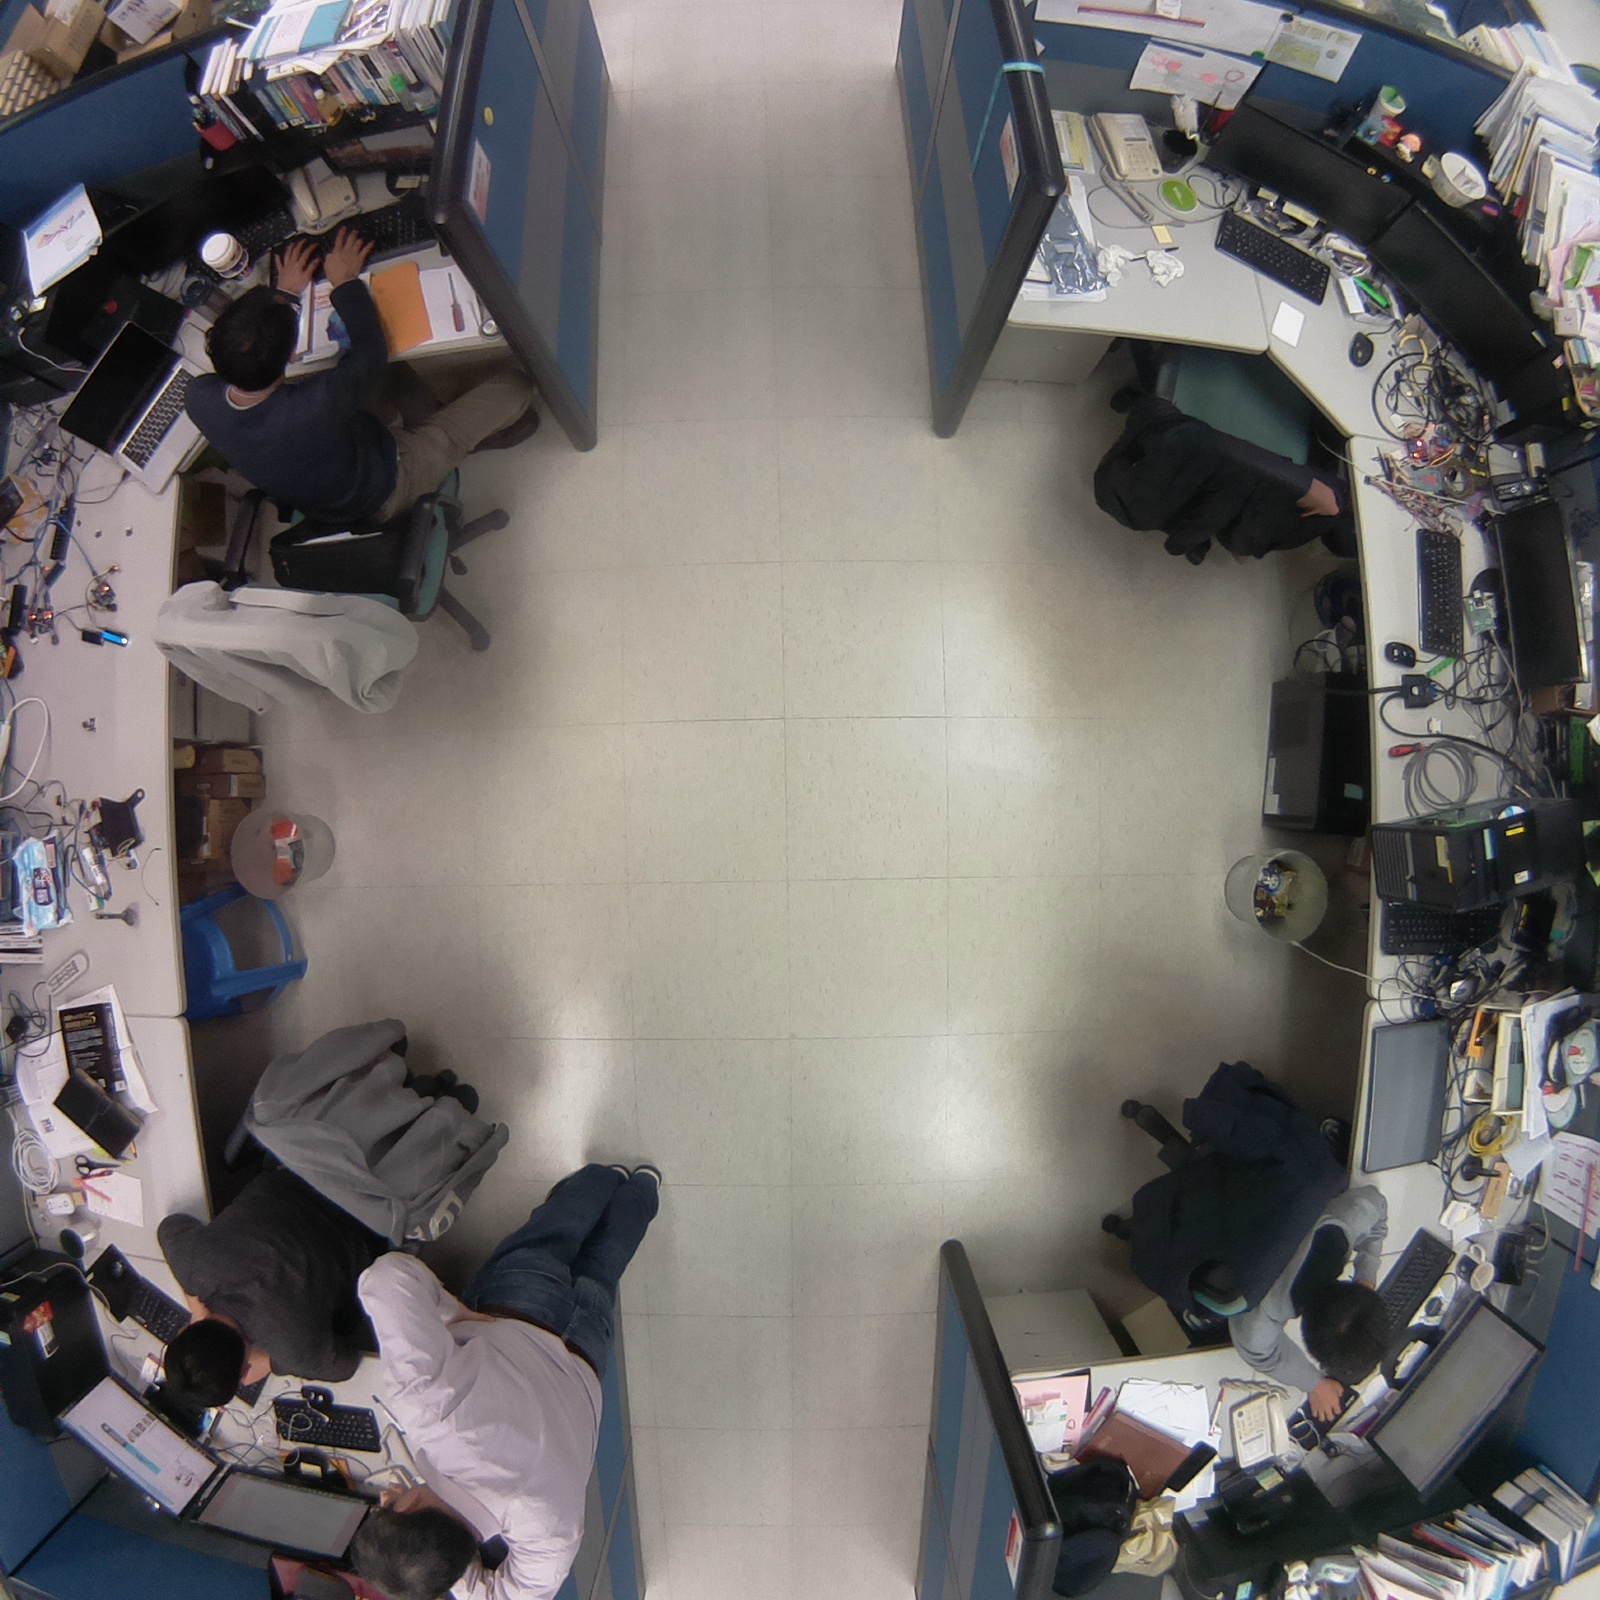chair: (1083, 324, 1363, 588)
head: (341, 1503, 488, 1600), (1295, 1274, 1397, 1392), (203, 288, 310, 388), (162, 1315, 255, 1420)
sitting: (132, 246, 560, 745), (137, 1004, 527, 1418), (1083, 1040, 1398, 1426)
standing: (336, 1134, 681, 1600)
